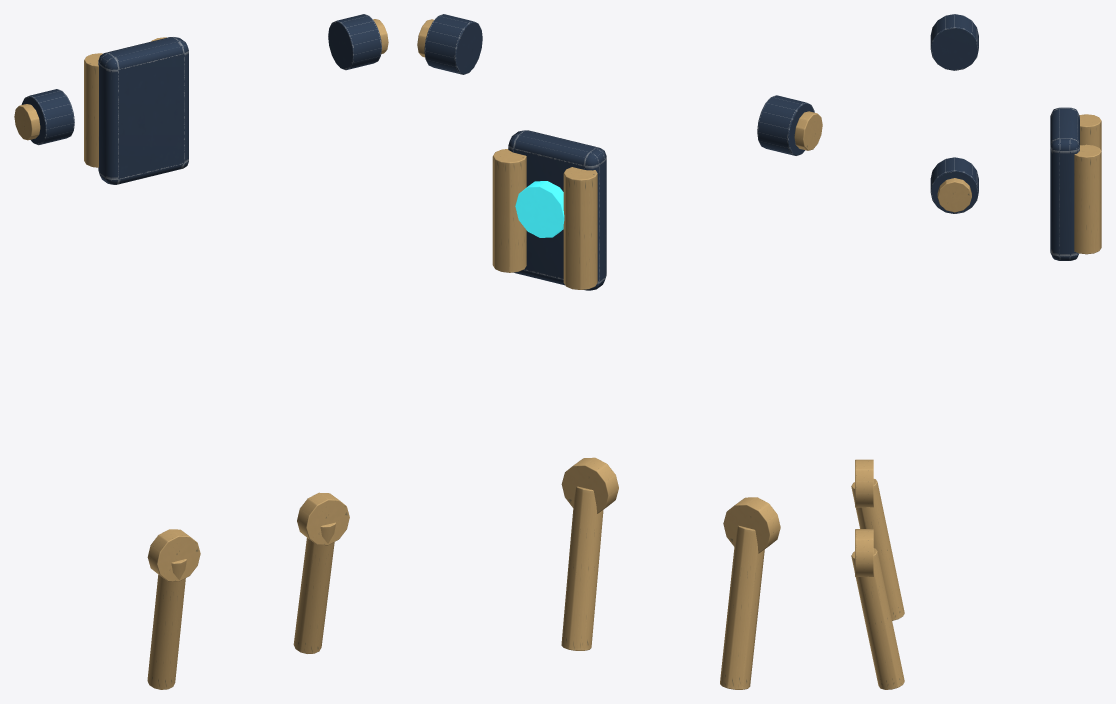
The model's file is shock_frame.glb.
3 views of the same model, side by side, from view 1: azimuth 30°, elevation 25°; view 2: azimuth 150°, elevation 25°; view 3: azimuth 270°, elevation 25° (orthographic). The views are drawn at different scales.
Visible parts, largest first — view 1: shock_frame__backplate, shock_frame__shin_rail_L, shock_frame__shin_rail_R, shock_frame__shoulder_L, shock_frame__knee_R, shock_frame__knee_L, shock_frame__shoulder_R, shock_frame__back_damper_neg1, shock_frame__shoulder_pin_R; view 2: shock_frame__backplate, shock_frame__shin_rail_R, shock_frame__shin_rail_L, shock_frame__back_damper_neg1, shock_frame__back_damper_1, shock_frame__shoulder_L, shock_frame__back_core, shock_frame__shoulder_R, shock_frame__knee_L, shock_frame__knee_R, shock_frame__shoulder_pin_R; view 3: shock_frame__backplate, shock_frame__shin_rail_L, shock_frame__back_damper_1, shock_frame__shoulder_R, shock_frame__shin_rail_R, shock_frame__shoulder_L, shock_frame__shoulder_pin_L, shock_frame__knee_R, shock_frame__knee_L, shock_frame__back_damper_neg1.
Boxes of the visible parts, x1,y1,x2,y2 form: shock_frame__backplate: (98,37,188,184); shock_frame__shin_rail_L: (293,522,335,653); shock_frame__shin_rail_R: (147,559,186,689); shock_frame__shoulder_L: (328,14,381,70); shock_frame__knee_R: (147,529,200,581); shock_frame__knee_L: (297,492,349,545); shock_frame__shoulder_R: (21,89,74,145); shock_frame__back_damper_neg1: (84,53,102,167); shock_frame__shoulder_pin_R: (14,104,40,140); shock_frame__backplate: (508,130,606,290); shock_frame__shin_rail_R: (720,525,764,689); shock_frame__shin_rail_L: (561,486,603,650); shock_frame__back_damper_neg1: (563,167,597,289); shock_frame__back_damper_1: (492,149,526,272); shock_frame__shoulder_L: (424,14,482,74); shock_frame__back_core: (515,181,564,237); shock_frame__shoulder_R: (757,95,814,155); shock_frame__knee_L: (561,457,618,513); shock_frame__knee_R: (723,497,780,553); shock_frame__shoulder_pin_R: (794,111,822,150); shock_frame__backplate: (1050,107,1079,260); shock_frame__shin_rail_L: (851,548,904,689); shock_frame__back_damper_1: (1074,144,1101,254); shock_frame__shoulder_R: (930,14,978,70); shock_frame__shin_rail_R: (851,479,904,620); shock_frame__shoulder_L: (930,157,978,213); shock_frame__shoulder_pin_L: (937,178,971,212); shock_frame__knee_R: (855,459,873,507); shock_frame__knee_L: (855,529,873,576); shock_frame__back_damper_neg1: (1079,114,1101,150).
Size of the model in its own units: 0.732 by 1.15 by 0.4653.
Materials: 2 (2 with a texture image).
